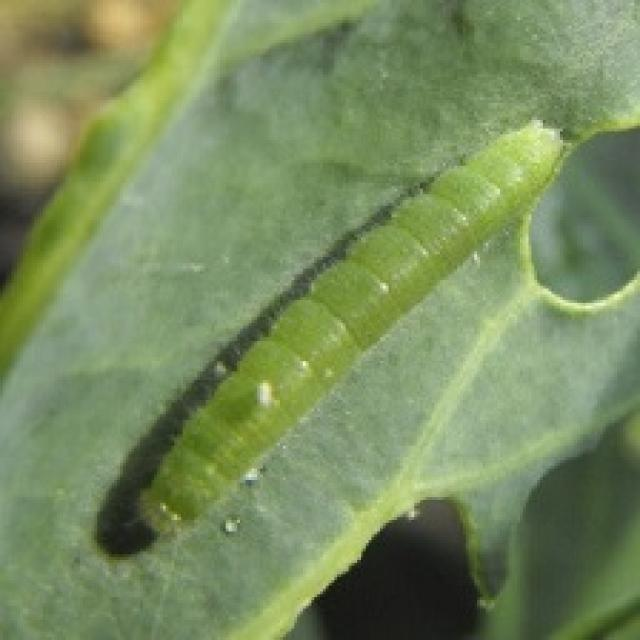Cabbage-worm: (109, 114, 568, 547)
